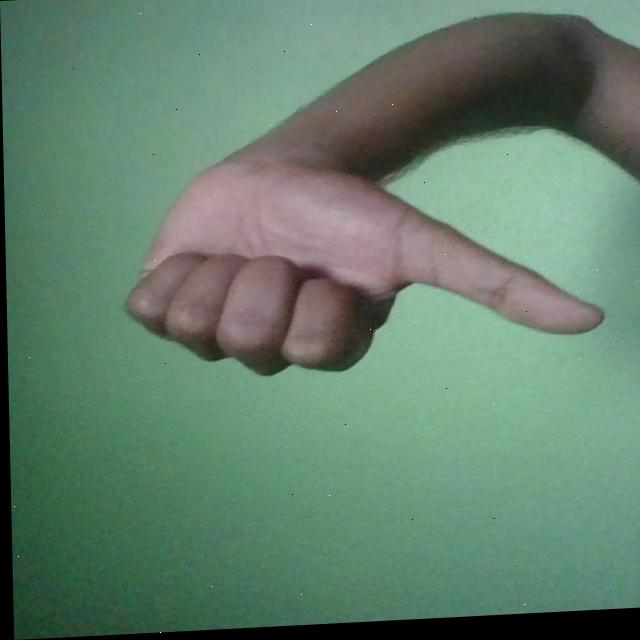Dislike: (119, 146, 602, 385)
